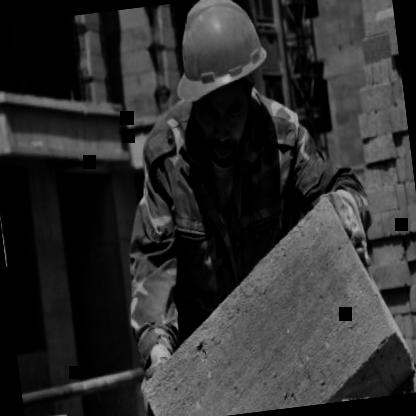helmet: (162, 0, 283, 160)
